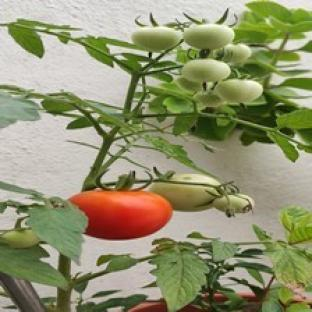Tomato: (69, 190, 172, 239), (150, 173, 220, 211), (184, 24, 235, 50), (215, 78, 263, 103), (182, 59, 231, 83), (133, 27, 182, 51), (212, 194, 254, 215), (0, 229, 40, 247), (223, 44, 252, 62), (194, 91, 224, 108), (176, 76, 203, 91)
